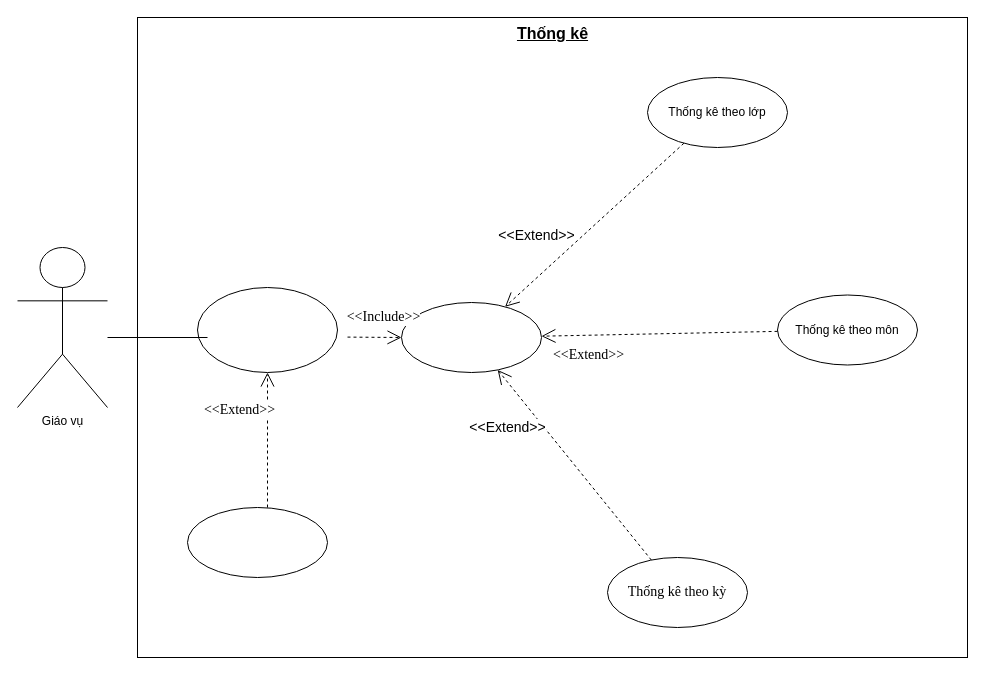
Image size: 985x675. Some labels were removed from this diagram. Here are the shapes that lost their labels. From the top down, the centre of each, then its label:
At (267,329): "Đăng nhập".
At (471,337): "Thống kê điểm".
At (257,542): "Đăng xuất".
